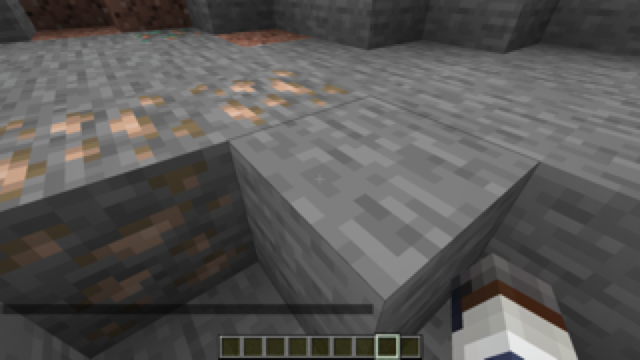copper: (129, 21, 208, 45)
iron: (1, 66, 357, 347)
